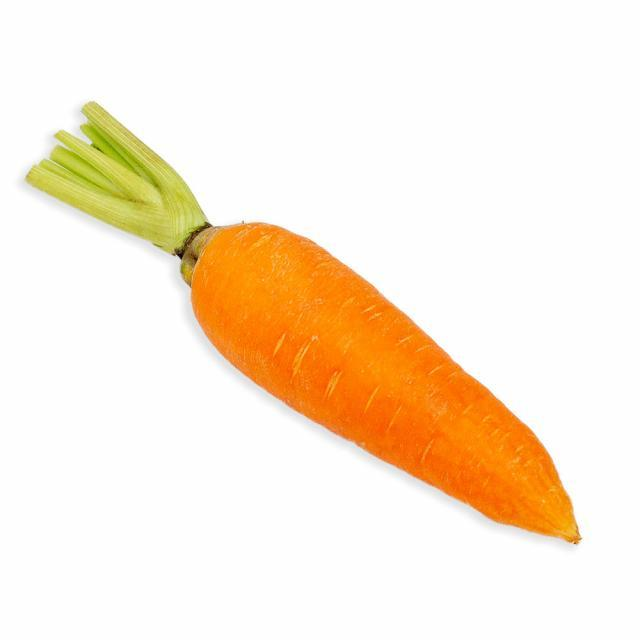Carrot: (56, 114, 592, 551)
